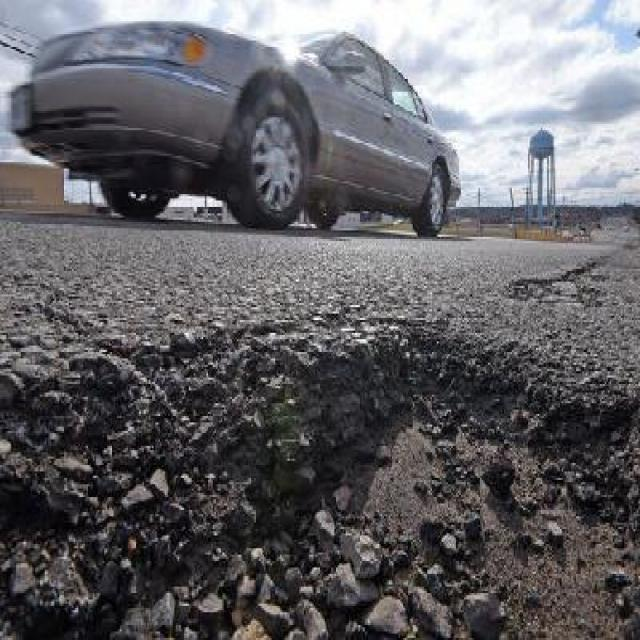buraco: (2, 309, 640, 637), (501, 275, 564, 303), (505, 277, 560, 303)
